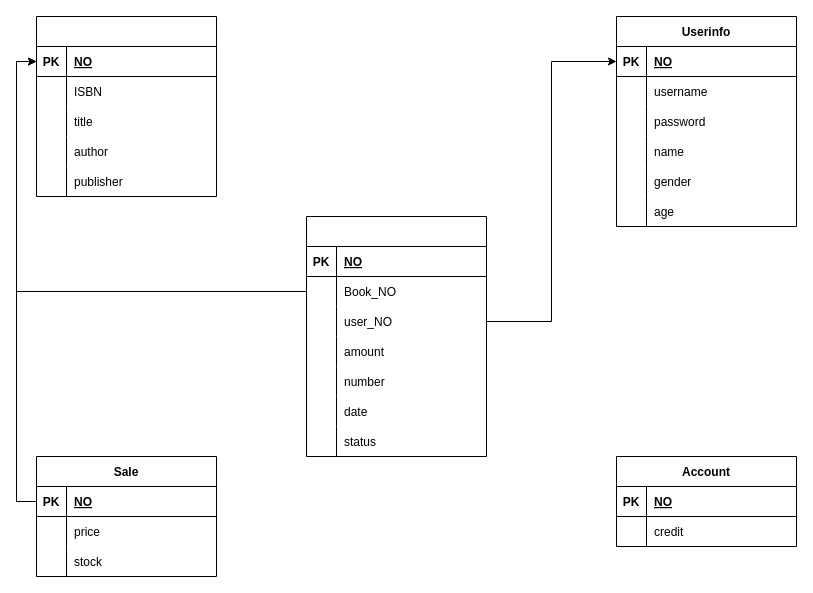
This 813x593 diagram has some shape labels left out. The shapes that lost their labels are listed below. From the top down, each one's box as (x1, y1, x2, y2) in pixels, then its label:
(36, 16, 216, 196): Book_info
(306, 216, 486, 456): Order
